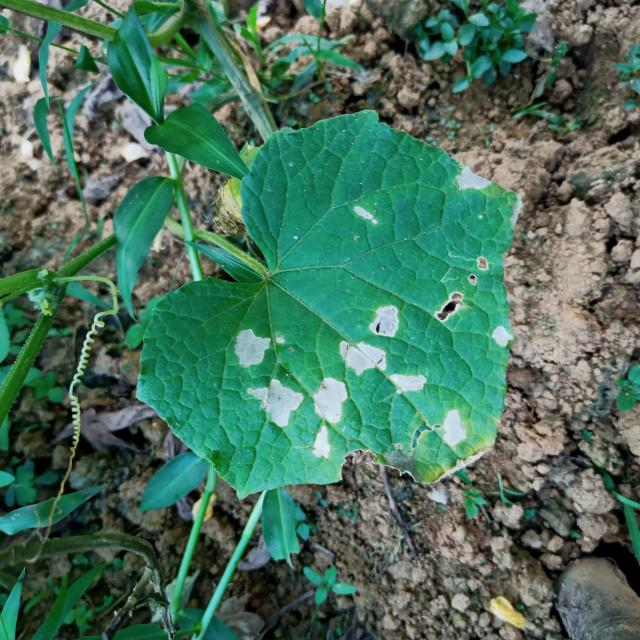disease_cucumber: (339, 304, 402, 376), (435, 256, 489, 322), (310, 375, 349, 459), (246, 376, 306, 428), (233, 327, 286, 368), (443, 408, 467, 448), (456, 165, 491, 192), (389, 371, 427, 395), (354, 202, 378, 226), (491, 324, 512, 348)
